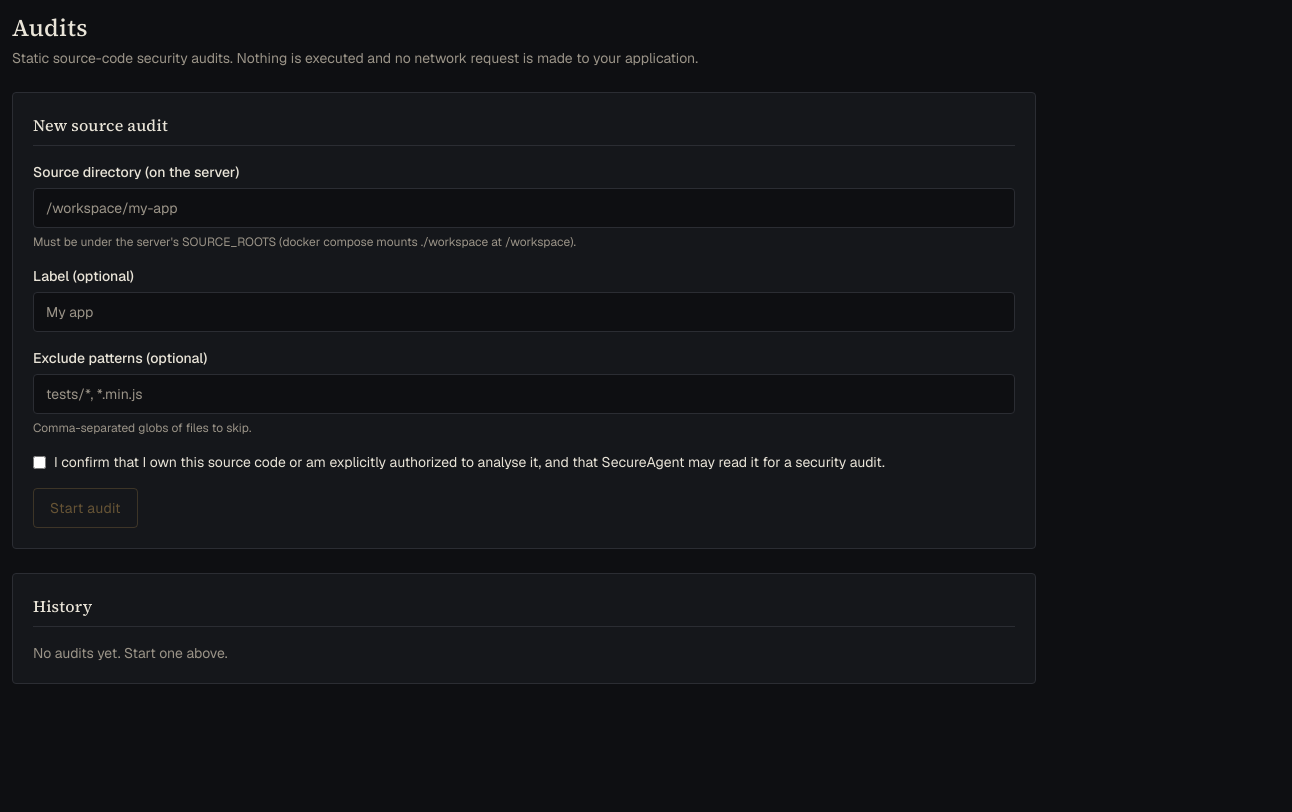
Test: AuditsPage › shows the server's rejection message
Type "/etc" into the field labelled "Source directory (on the server)".
click(524, 208); type("/etc")  # box left=33, top=188, right=1015, bottom=228
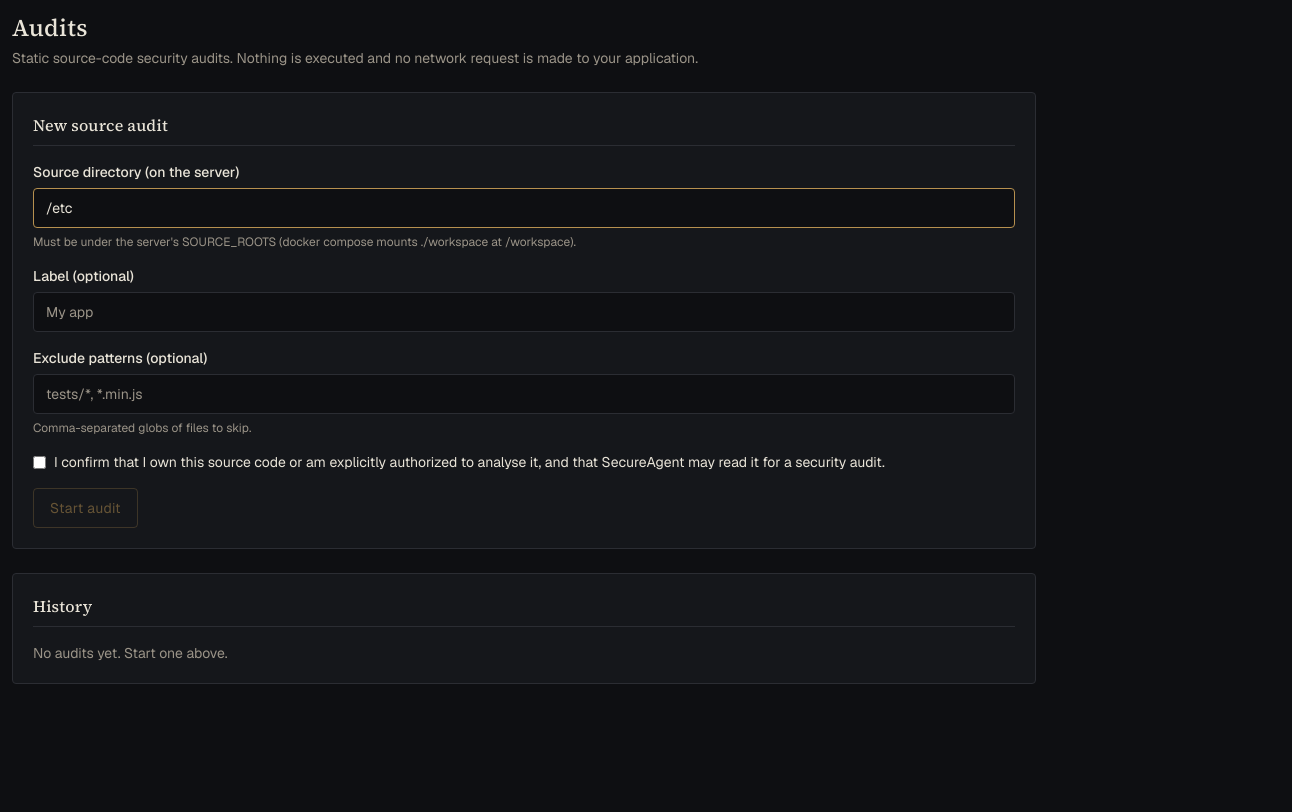
Click the checkbox.
click(40, 462)  # box left=33, top=456, right=46, bottom=469
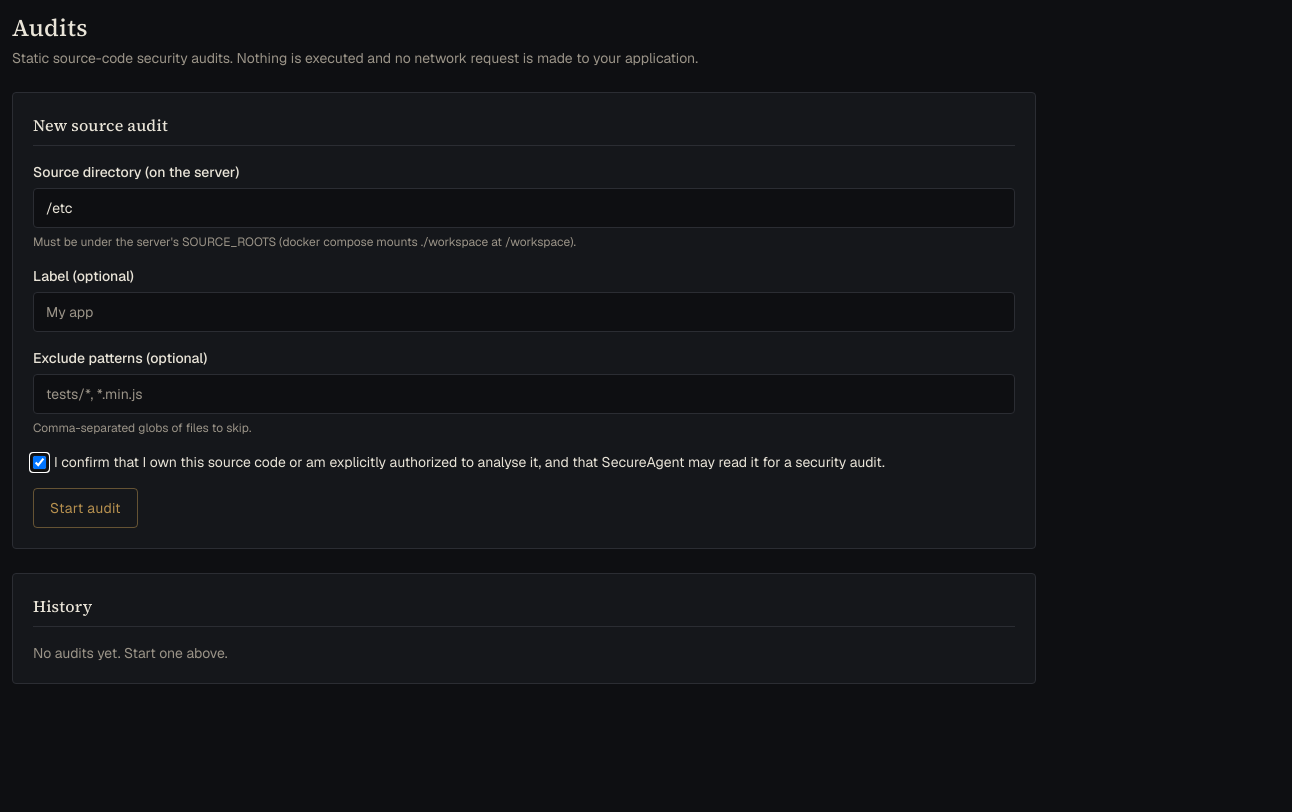
Click the button "Start audit".
click(86, 508)  # box left=33, top=488, right=138, bottom=528
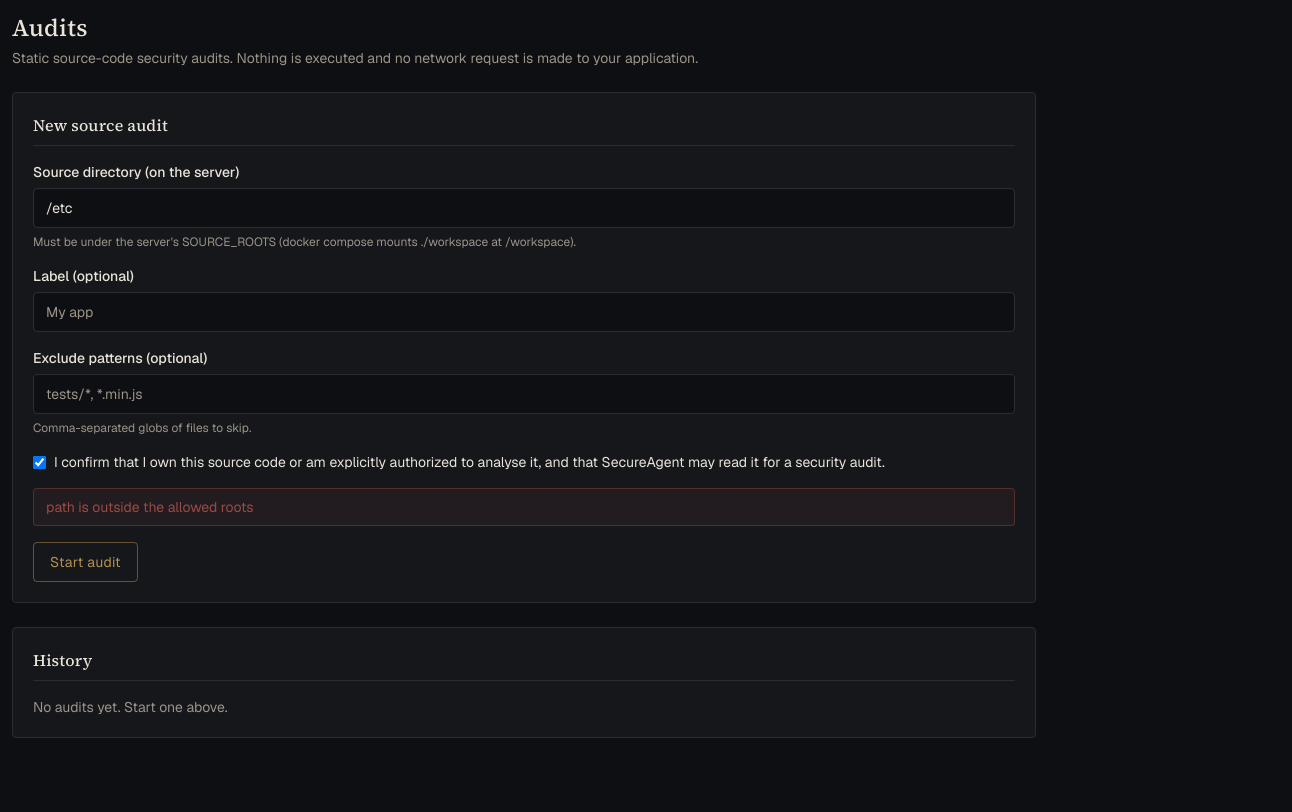
Expected: the message shows "outside the allowed roots", left=46, top=498, right=254, bottom=516
